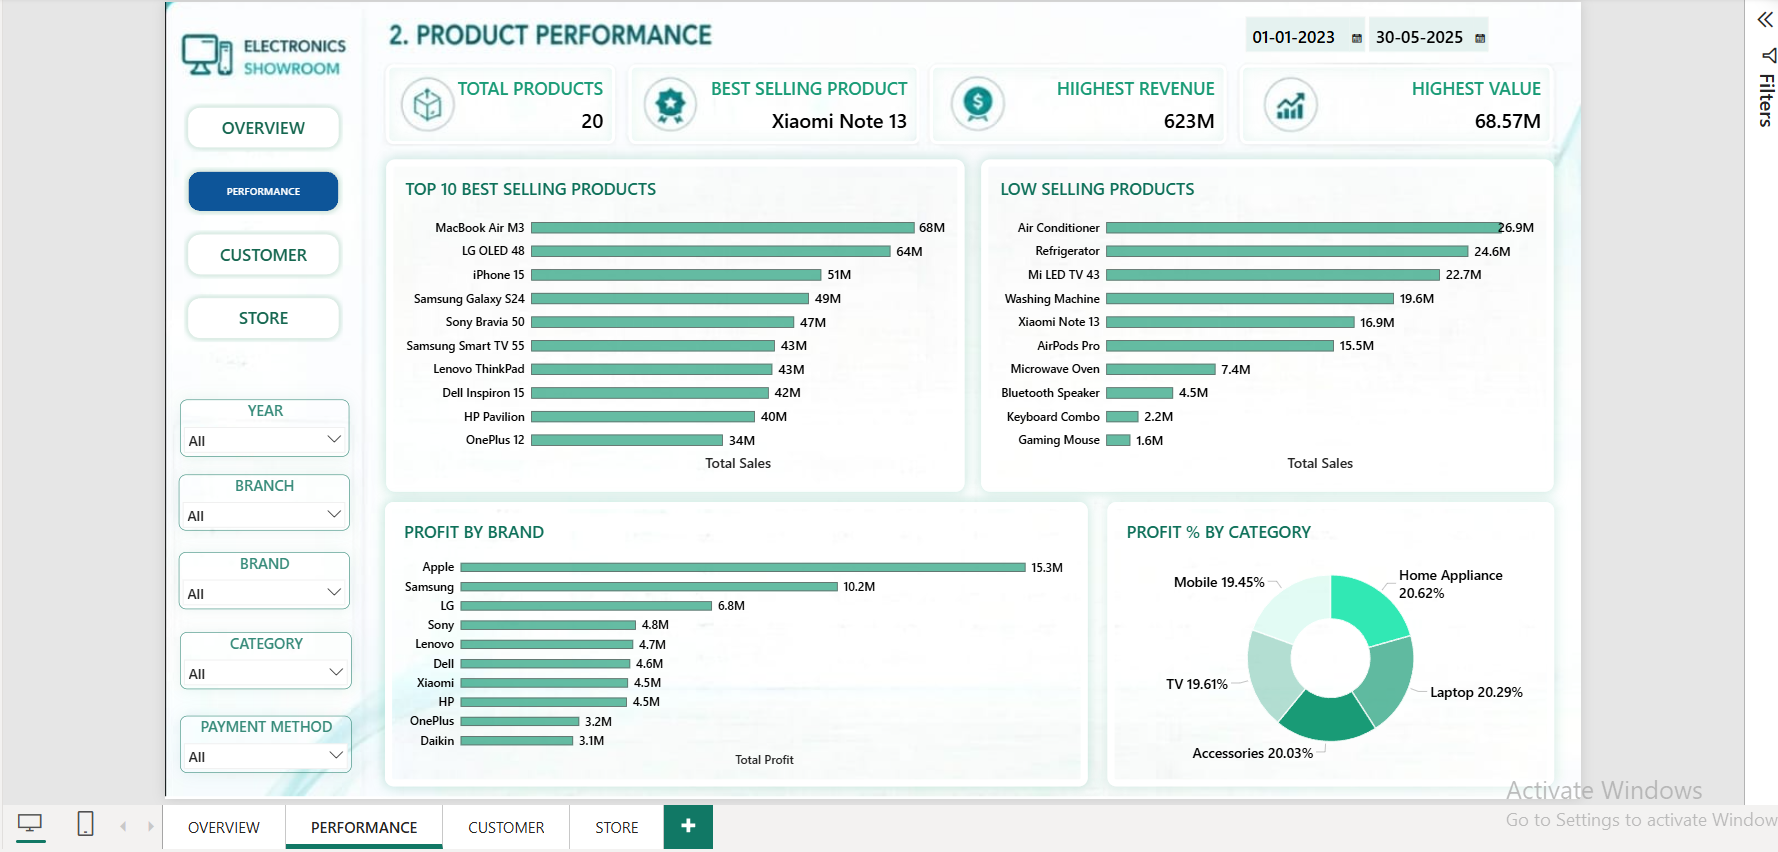

Layout of this report page (visuals, bound fields, positions):
{"tool":"powerbi","page":{"name":"PERFORMANCE","canvas":[1920,1080],"ordinal":1},"visuals":[{"type":"slicer","title":"YEAR","fields":{"Values":["Date_Table.Year"]},"box":[19.9,539.3,229.8,77.8],"z":0},{"type":"cardVisual","fields":{"Data":["electronic.Total Products"]},"box":[300,84,310,108],"z":1000},{"type":"cardVisual","fields":{"Data":["Product Sales Summary.Best Selling Product"]},"box":[628,84,394,108],"z":2000},{"type":"cardVisual","fields":{"Data":["Product Sales Summary.Highest Revenue Value"]},"box":[1038,84,402,108],"z":3000},{"type":"cardVisual","fields":{"Data":["Product Sales Summary.Highest Profit Value"]},"box":[1458,84,424,108],"z":4000},{"type":"clusteredBarChart","title":"TOP 10 BEST SELLING PRODUCTS","fields":{"Category":["electronic.Product_Name"],"Y":["electronic.Total Sales"]},"box":[300,214,784,450],"z":5000},{"type":"clusteredBarChart","title":"LOW SELLING PRODUCTS","fields":{"Category":["electronic.Product_Name"],"Y":["electronic.Total Sales"]},"box":[1106,214,776,450],"z":6000},{"type":"clusteredBarChart","title":"PROFIT BY BRAND","fields":{"Y":["electronic.Total Profit"],"Category":["electronic.Brand"]},"box":[299.1,677.7,952.8,385.9],"z":7000},{"type":"donutChart","title":"PROFIT % BY CATEGORY","fields":{"Category":["electronic.Product_Category"],"Y":["Date_Table.Profit %"]},"box":[1277.8,677.7,605.7,385.9],"z":8000},{"type":"slicer","title":"BRANCH","fields":{"Values":["electronic.Store_Branch"]},"box":[18.1,640.6,231.6,76],"z":9000},{"type":"slicer","title":"BRAND","fields":{"Values":["electronic.Brand"]},"box":[18.1,745.6,231.6,77.8],"z":10000},{"type":"slicer","title":"PAYMENT METHOD","fields":{"Values":["electronic.Payment_Mode"]},"box":[20.3,967.6,232.7,77.6],"z":11000},{"type":"slicer","title":"CATEGORY","fields":{"Values":["electronic.Product_Category"]},"box":[20.3,854.9,232.7,77.6],"z":12000},{"type":"pageNavigator","box":[26,138,216,326],"z":12001},{"type":"slicer","fields":{"Values":["Date_Table.Date"]},"box":[1458,16,388,52],"z":12002}]}

Visuals, with their boxes on the page's 1920x1080 design canvas (x1, y1, x2, y2). These are canvas units, not pixel positions in the 1778x852 screenshot, which may show the page scaled, cropped or inside an application window:
"YEAR" slicer: rect(20, 539, 250, 617)
cardVisual - electronic.Total Products: rect(300, 84, 610, 192)
cardVisual - Product Sales Summary.Best Selling Product: rect(628, 84, 1022, 192)
cardVisual - Product Sales Summary.Highest Revenue Value: rect(1038, 84, 1440, 192)
cardVisual - Product Sales Summary.Highest Profit Value: rect(1458, 84, 1882, 192)
"TOP 10 BEST SELLING PRODUCTS" clusteredBarChart: rect(300, 214, 1084, 664)
"LOW SELLING PRODUCTS" clusteredBarChart: rect(1106, 214, 1882, 664)
"PROFIT BY BRAND" clusteredBarChart: rect(299, 678, 1252, 1064)
"PROFIT % BY CATEGORY" donutChart: rect(1278, 678, 1884, 1064)
"BRANCH" slicer: rect(18, 641, 250, 717)
"BRAND" slicer: rect(18, 746, 250, 823)
"PAYMENT METHOD" slicer: rect(20, 968, 253, 1045)
"CATEGORY" slicer: rect(20, 855, 253, 932)
pageNavigator: rect(26, 138, 242, 464)
slicer - Date_Table.Date: rect(1458, 16, 1846, 68)
